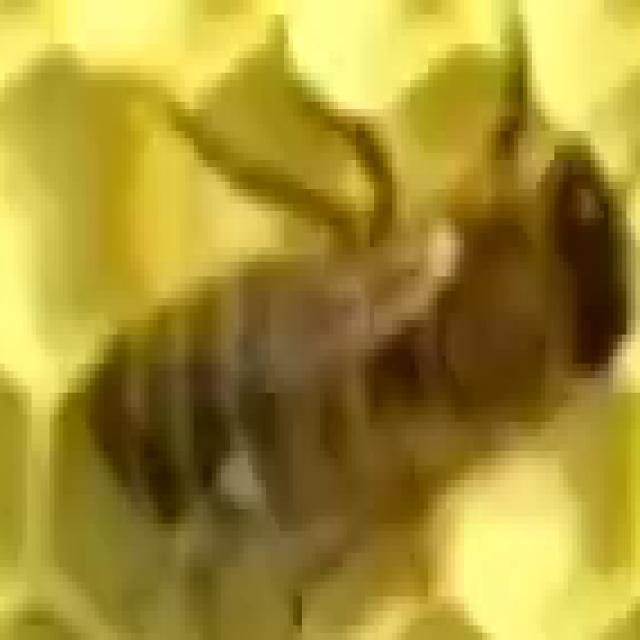honeybee: (78, 124, 636, 567)
